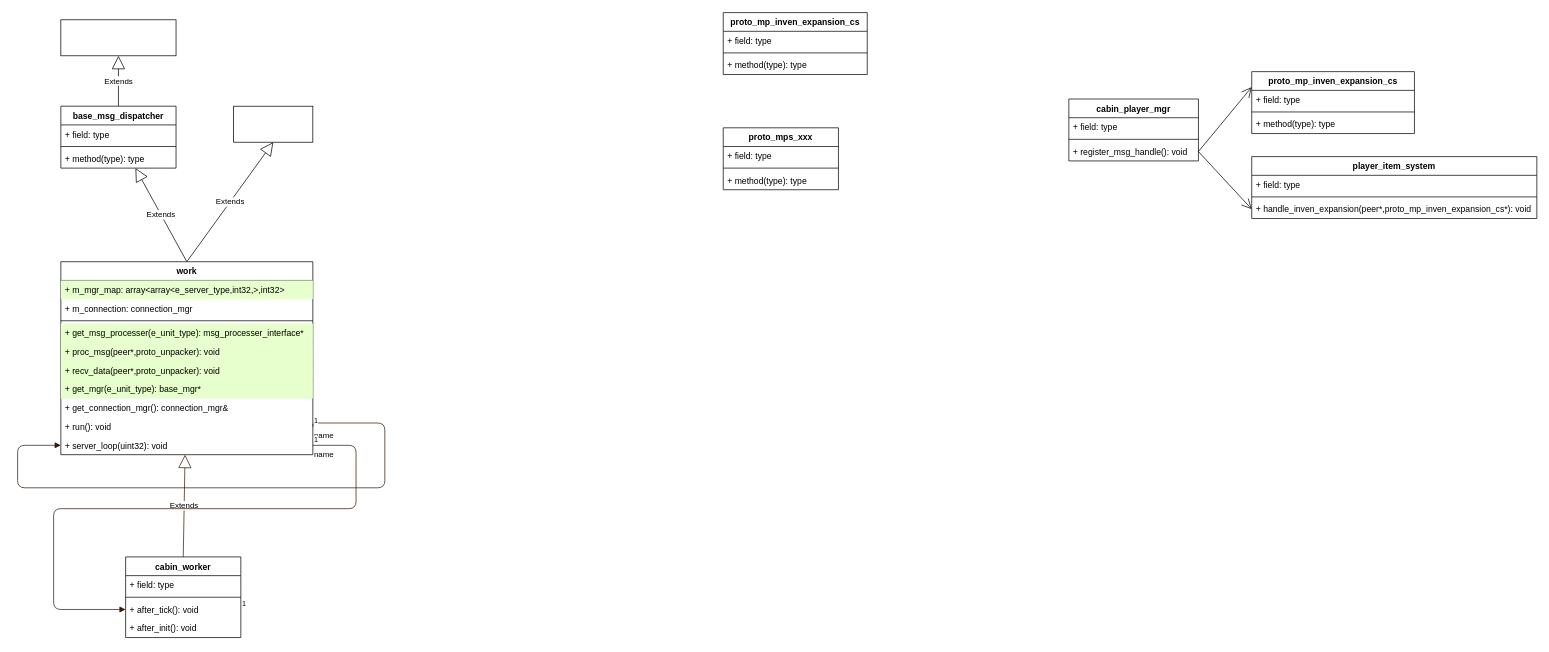
This 1549x652 diagram has some shape labels left out. Each missing label, with the centre of its shape:
«interface» log_base_interface: point (273, 123)
«interface» msg_processer_interface: point (118, 37)
